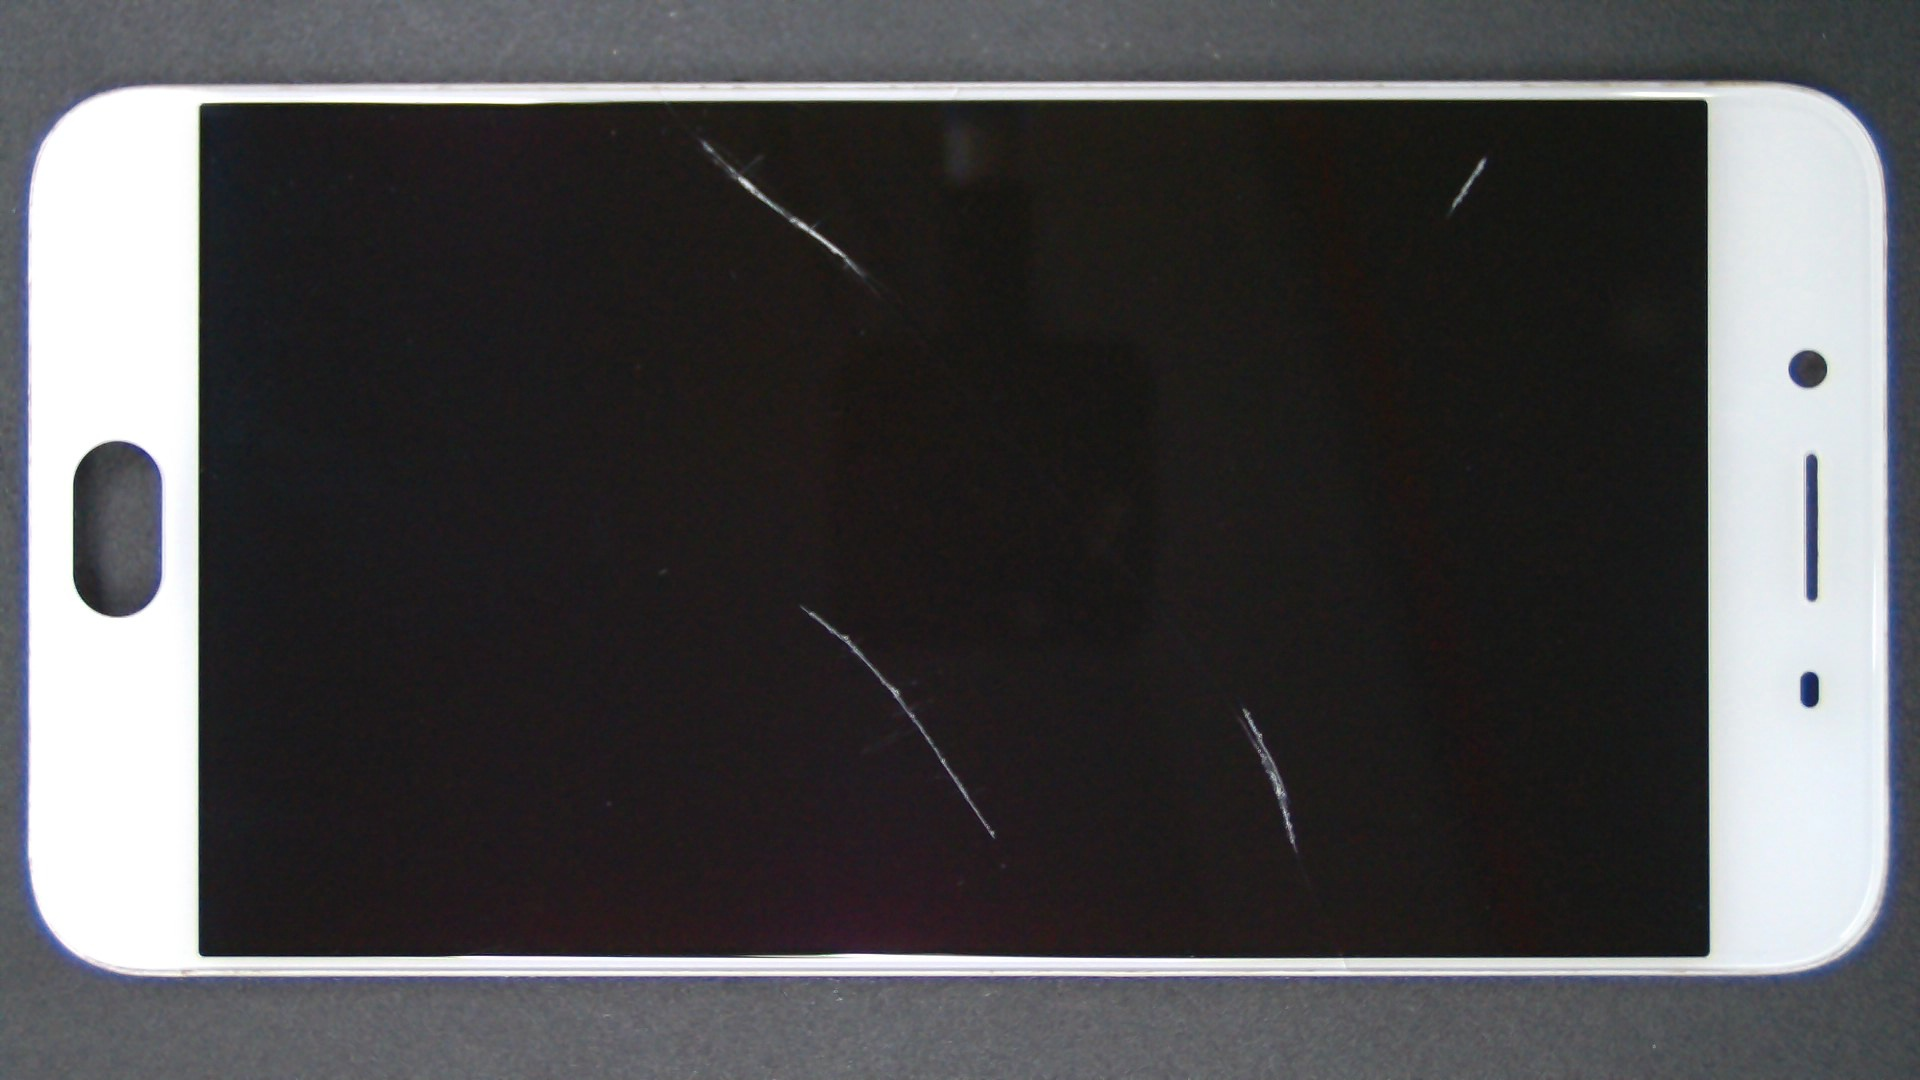oil: (622, 353, 1867, 1064), (401, 301, 1200, 907), (742, 78, 1920, 237), (349, 69, 1050, 206)
